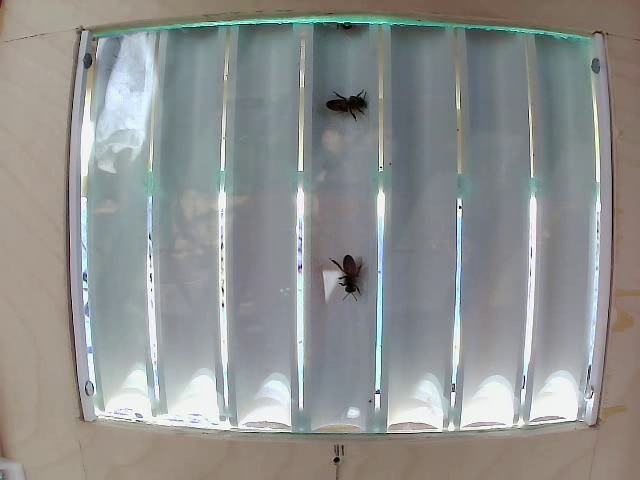bee: (323, 95, 396, 144), (335, 254, 384, 317)
